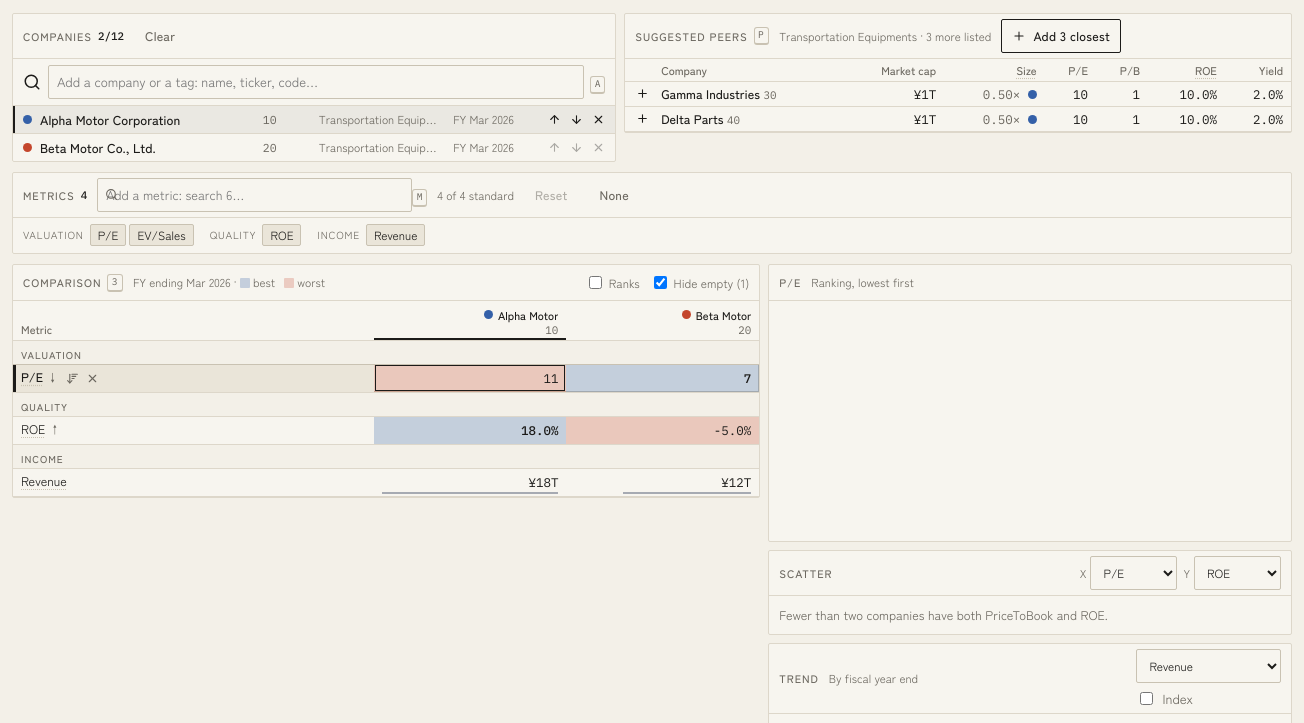
Test: ComparisonPage › toggles standard metrics and searches statement columns
Expected: the table named "Comparison by metric" is shown, x1=13 y1=301 x2=759 y2=497
Click the button "ROE".
click(282, 235)  # box x1=262 y1=224 x2=302 y2=246
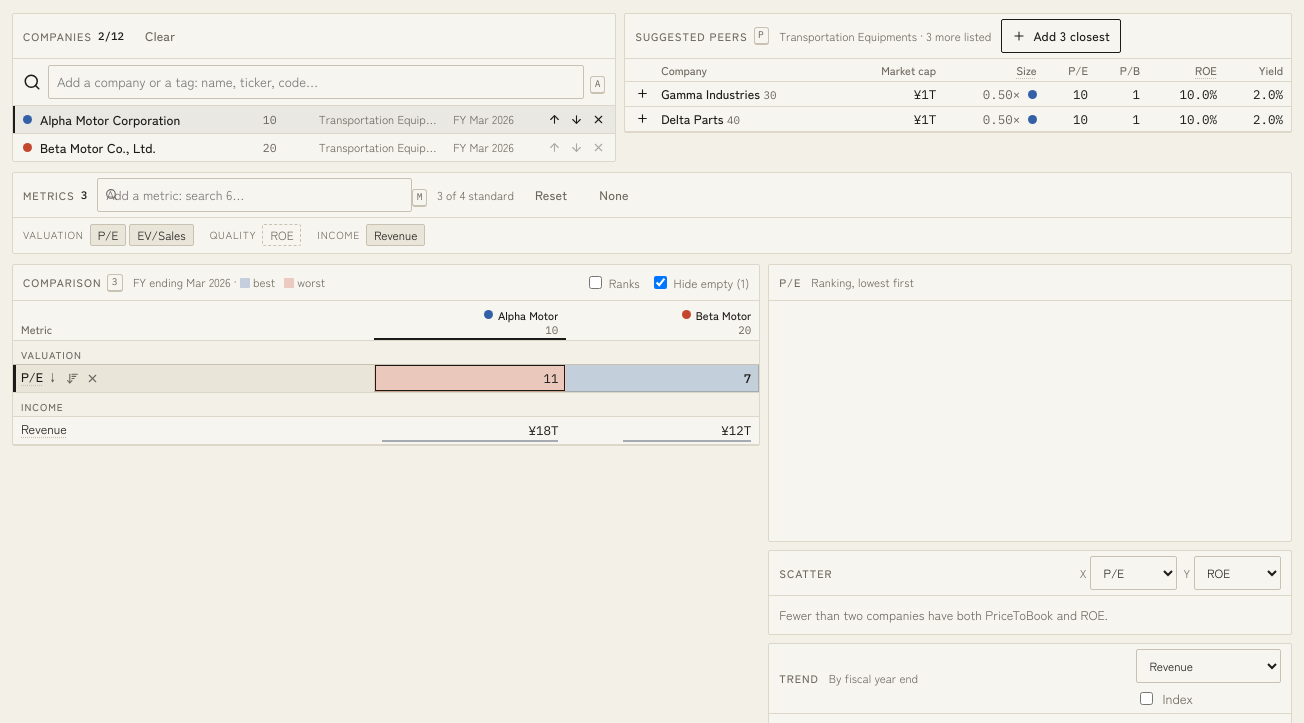
Press m
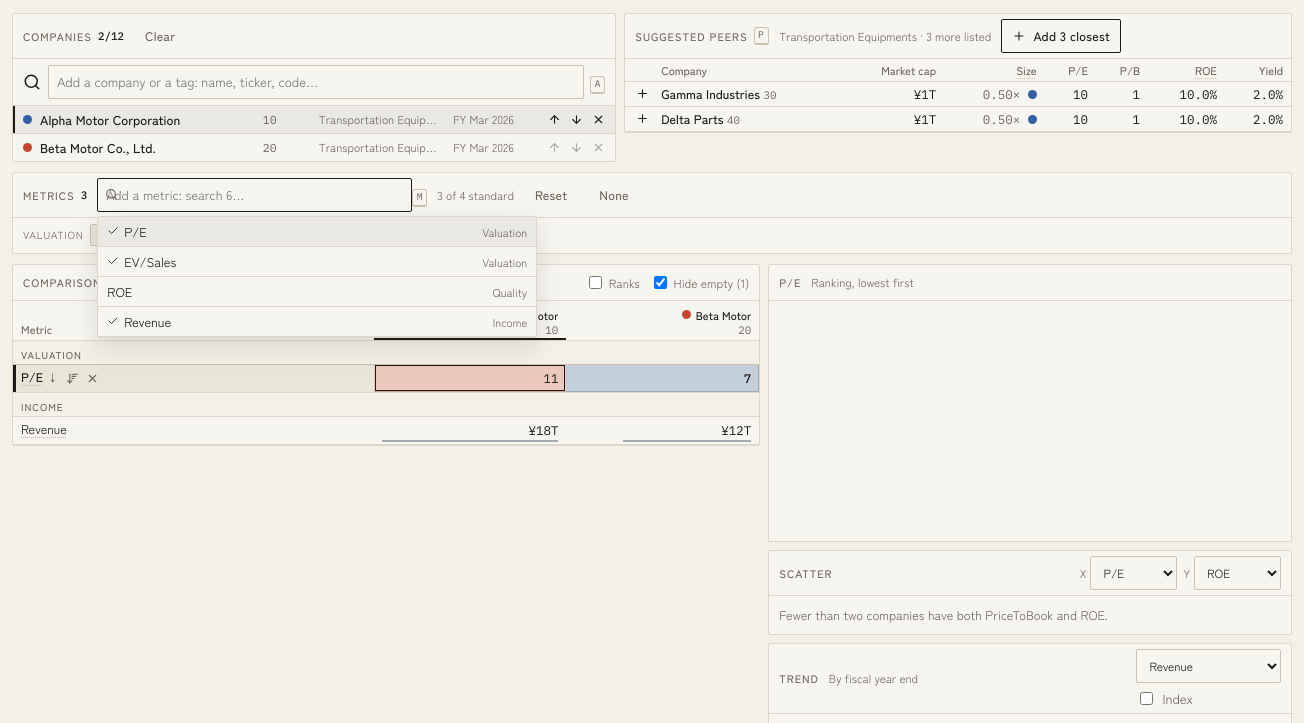
Type "gross" into the dropdown labelled "Add a metric".
click(255, 195); type("gross")  # box x1=97 y1=178 x2=412 y2=212
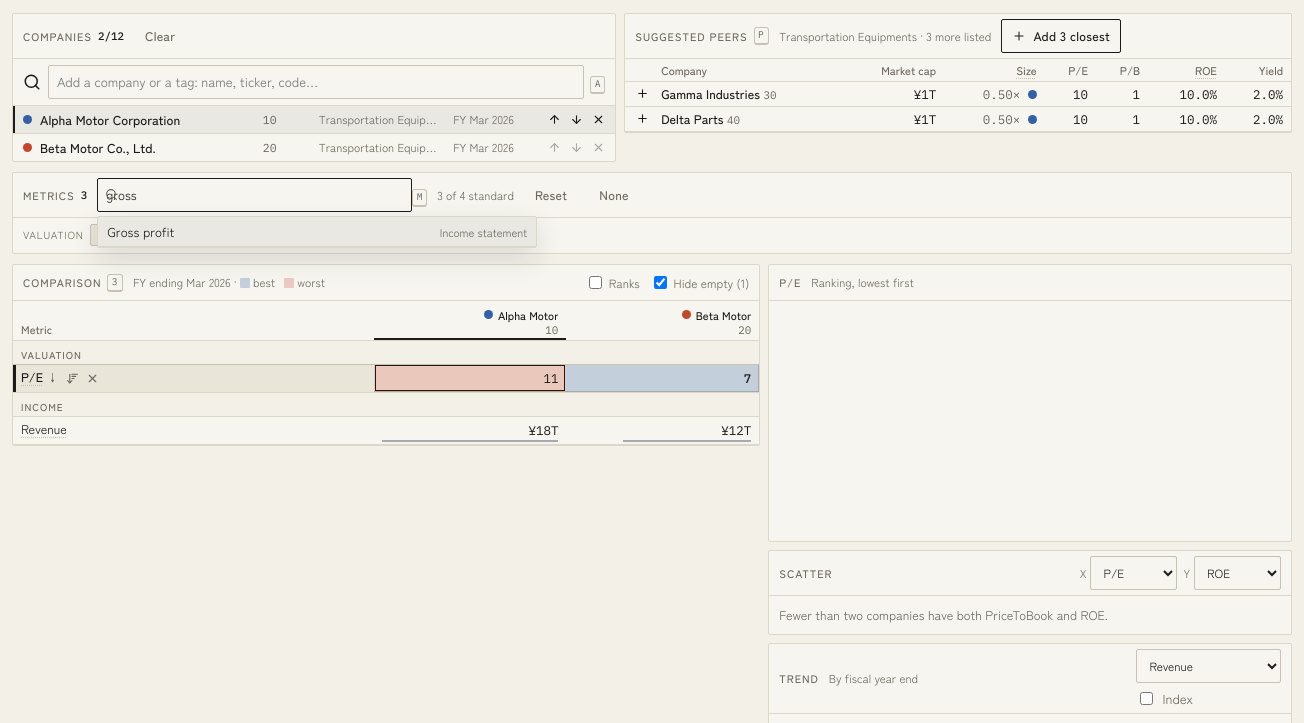
Press Enter in the dropdown named "Add a metric", box x1=97 y1=178 x2=412 y2=212
(page scrolled)
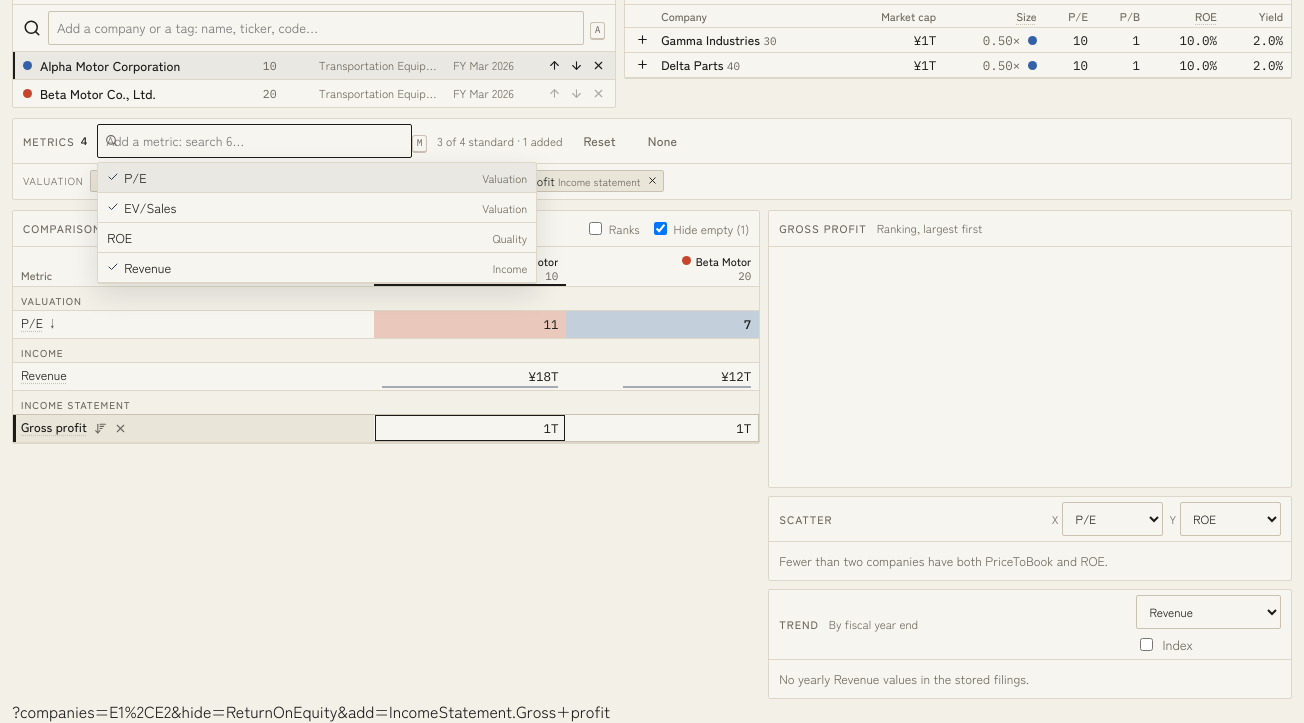
Now the text "Gross profit" is shown, box x1=21 y1=418 x2=87 y2=436
Now the button named "Remove metric Gross profit" is shown, box x1=642 y1=171 x2=662 y2=191
Now the text with test id "location" reads "?companies=E1%2CE2&hide=ReturnOnEquity&add=IncomeStatement.Gross+profit", box x1=12 y1=699 x2=610 y2=722
